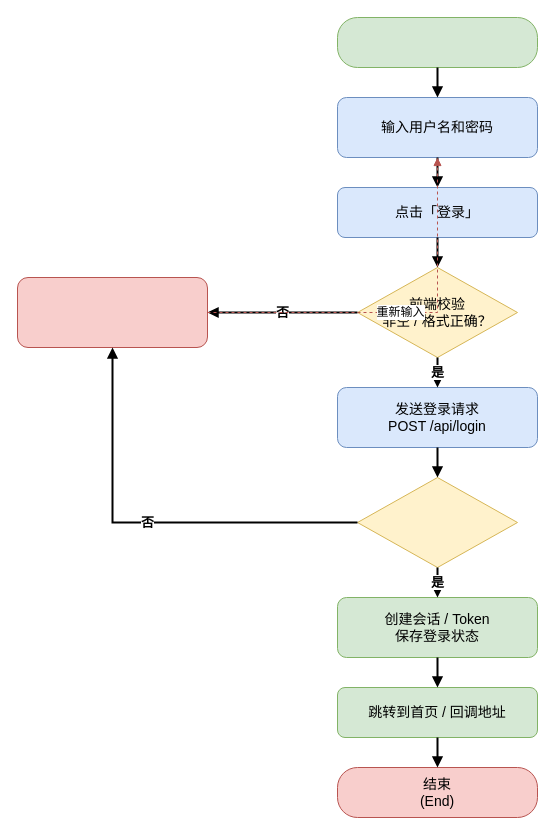
This 555x835 diagram has some shape labels left out. Each missing label, with the centre of its shape:
后端验证 账号密码正确？: the point at 437,522
开始 (Start): the point at 437,42
提示错误信息 并高亮对应字段: the point at 112,312
